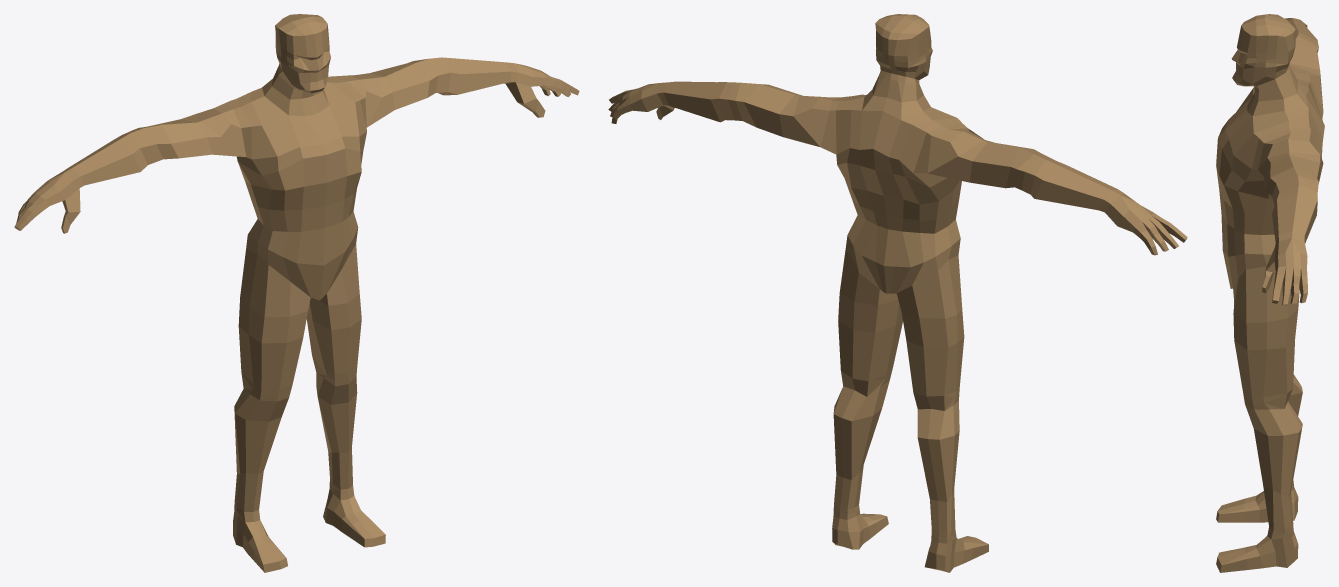
The model's file is player.fbx.
The picture shows the model from 3 angles, left to right: view 1: azimuth 30°, elevation 25°; view 2: azimuth 150°, elevation 25°; view 3: azimuth 270°, elevation 25°; orthographic projection. The views are drawn at different scales.
Visible parts, largest first — view 1: John-mesh; view 2: John-mesh; view 3: John-mesh.
Boxes of the visible parts, x1,y1,x2,y2 form: John-mesh: (14,14,579,572); John-mesh: (608,14,1187,572); John-mesh: (1216,14,1324,572).
Size of the model in its own units: 113 by 101 by 18.91.
